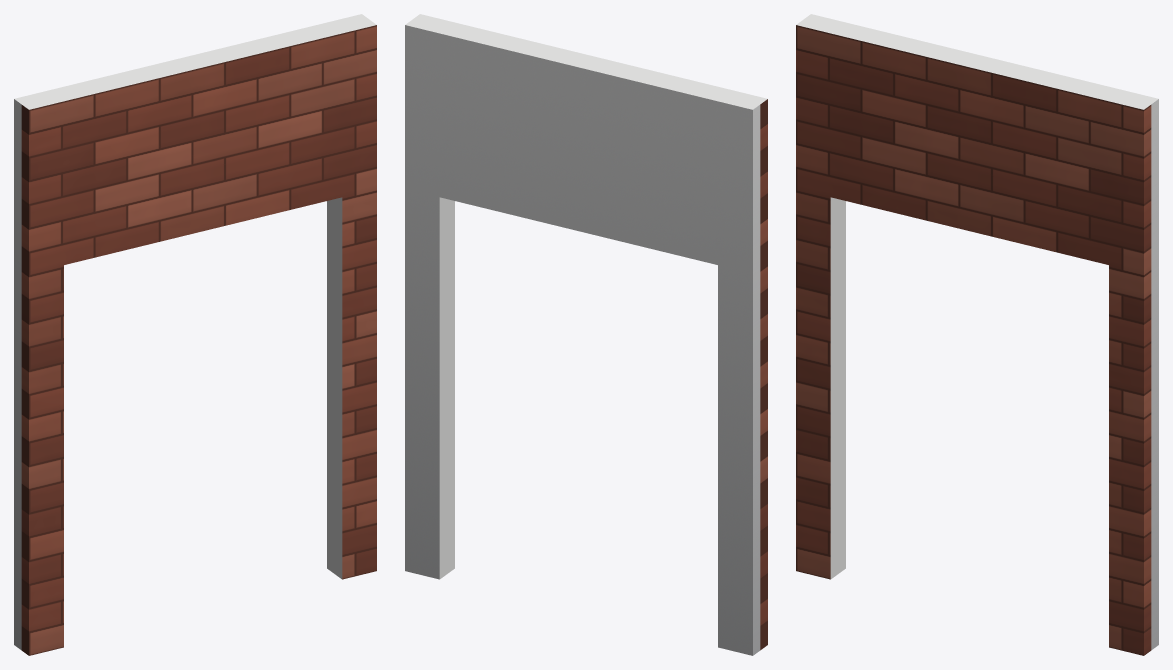
File: porta_dupla_2m.glb
3 views of the same model, side by side, from view 1: azimuth 30°, elevation 25°; view 2: azimuth 150°, elevation 25°; view 3: azimuth 330°, elevation 25° (orthographic).
Visible parts, largest first — view 1: porta_dupla_2m; view 2: porta_dupla_2m; view 3: porta_dupla_2m.
Part boxes in pixels (x1,y1,x2,y2): porta_dupla_2m: (14, 14, 376, 655); porta_dupla_2m: (405, 14, 767, 655); porta_dupla_2m: (796, 14, 1158, 655).
Size of the model in its own units: 2 by 3 by 0.15.
Materials: 3 (2 with a texture image).
